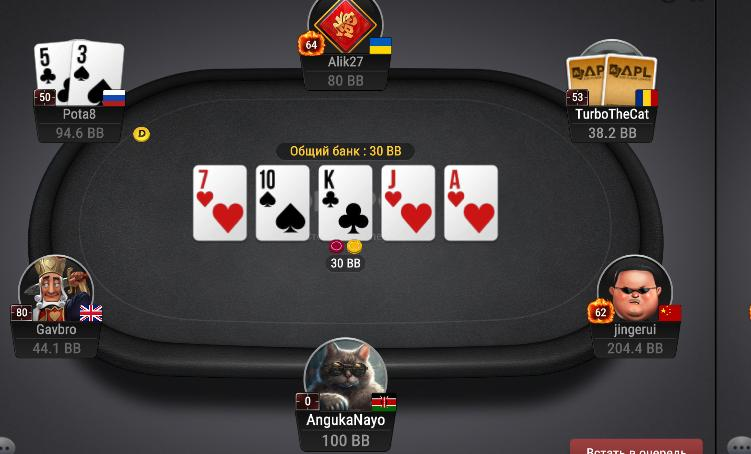10s: (256, 164, 311, 241)
3s: (71, 40, 125, 106)
5c: (34, 41, 72, 106)
7h: (194, 165, 246, 241)
Ah: (444, 166, 499, 239)
Jh: (381, 164, 436, 240)
Kc: (319, 164, 372, 239)
